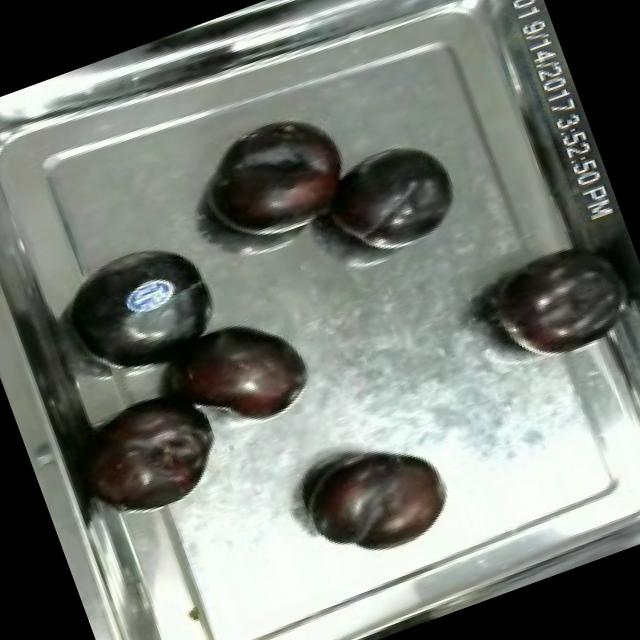Fruit: (50, 222, 238, 390), (159, 294, 329, 450), (68, 381, 242, 532), (192, 106, 364, 254), (476, 226, 640, 379), (292, 428, 463, 574), (309, 127, 472, 270)
